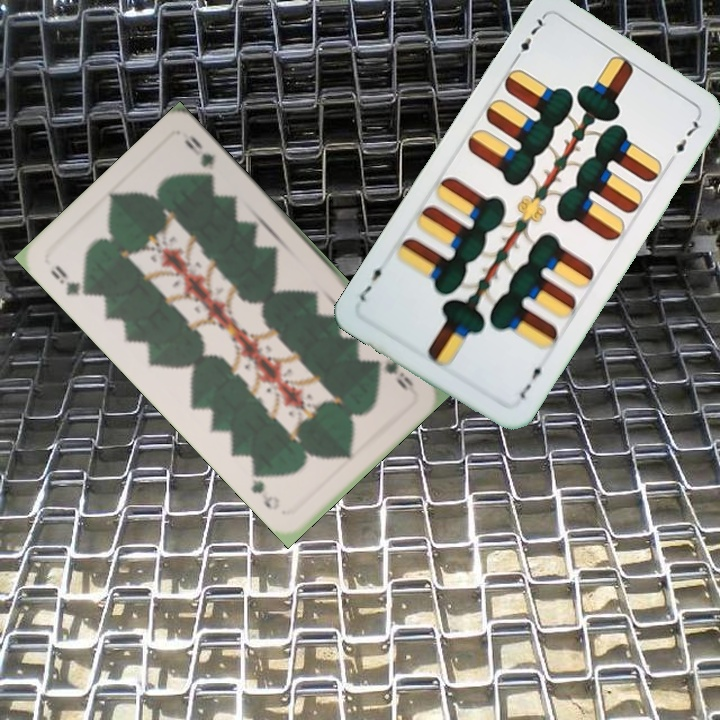E7: (509, 12, 548, 65), (515, 358, 549, 402)
G9: (46, 261, 95, 299), (381, 356, 417, 391)
